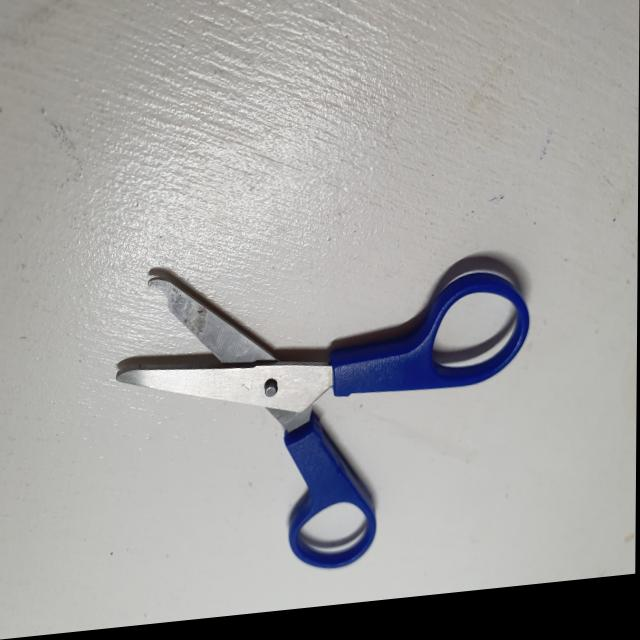scissor: (112, 237, 536, 603)
